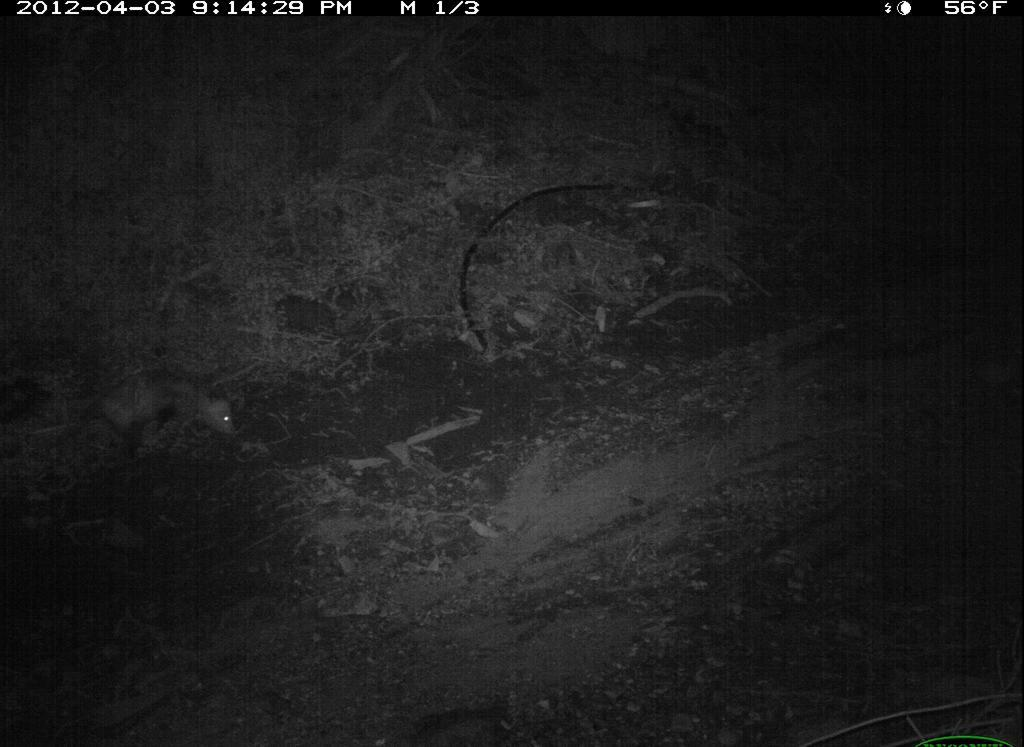opossum: (49, 361, 267, 482)
